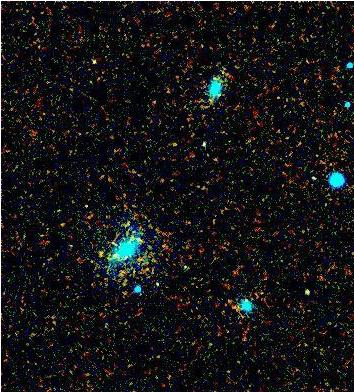star: (86, 237, 116, 267)
